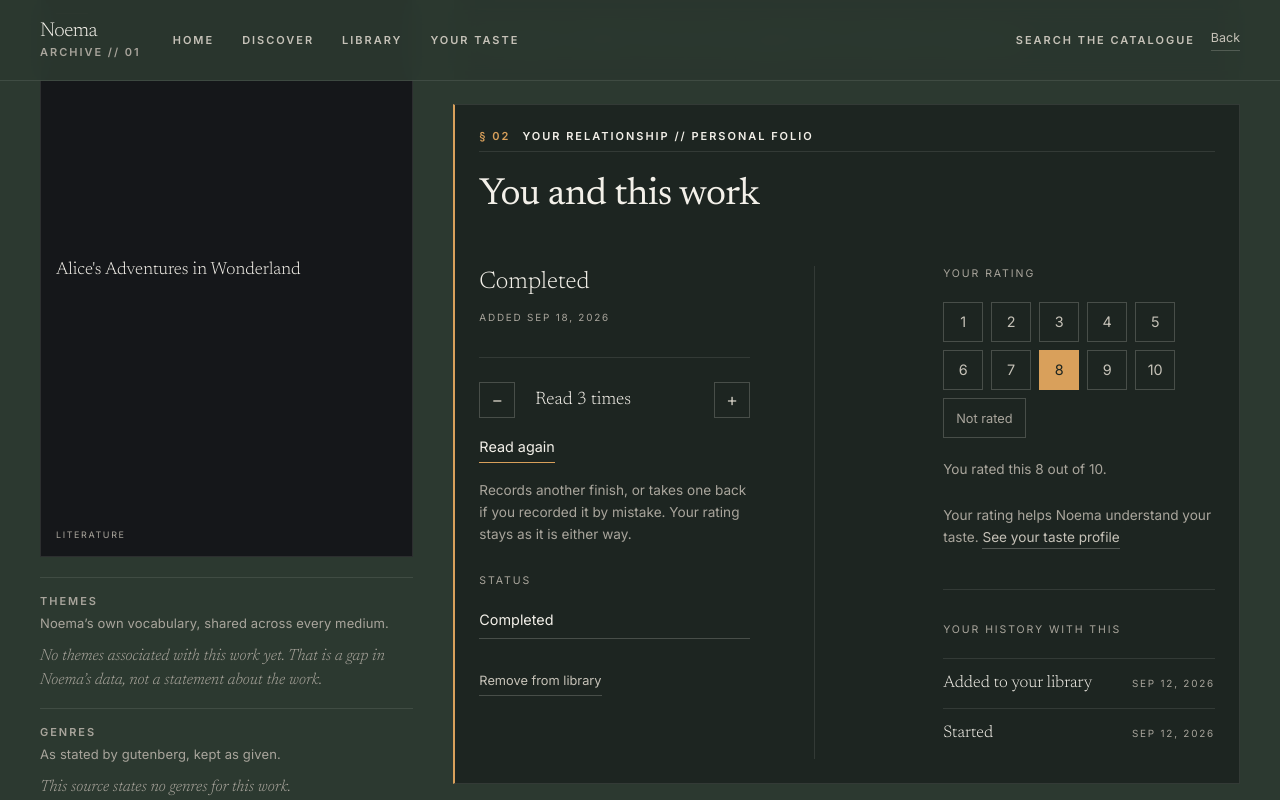
it: WorkPage › takes a completion back when asked
The image size is (1280, 800).
(page scrolled)
Click the button named "Remove one recorded read".
click(497, 400)  # box [479,382,515,418]
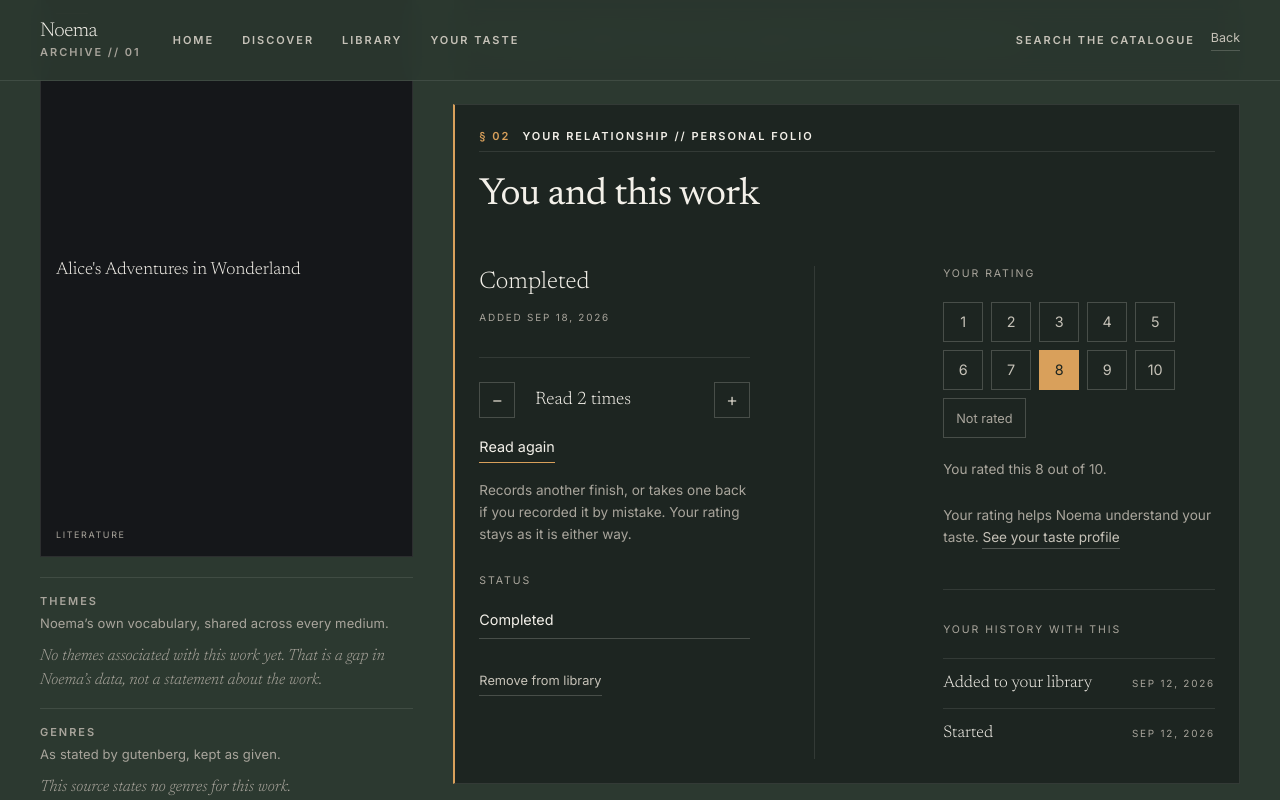
Expected: the text "Read 2 times" is shown, [535,391,631,409]
